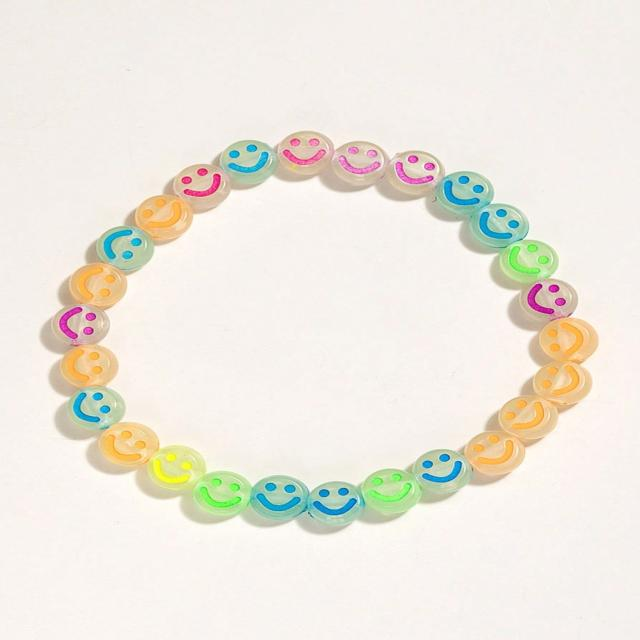bracelet: (22, 62, 640, 624)
